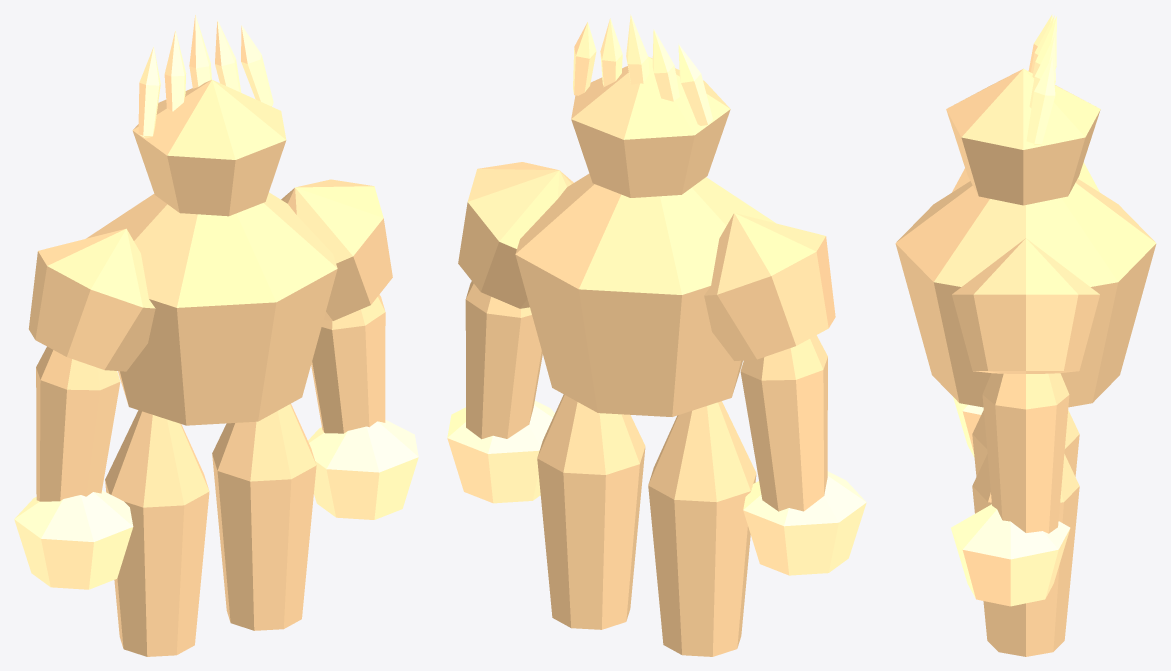
Rendered from deep-fracture-creature-StoneGuardian-earth.glb.
The picture shows the model from 3 angles, left to right: view 1: azimuth 30°, elevation 25°; view 2: azimuth 150°, elevation 25°; view 3: azimuth 270°, elevation 25°; orthographic projection. The views are drawn at different scales.
Visible parts, largest first — view 1: fortress-chest, gate-leg-left, gate-leg-right, crown, shoulder-left, pillar-arm-left, fist-left, shoulder-right, fist-right, pillar-arm-right, crown-spire0, crown-spire4 (+3 smaller); view 2: fortress-chest, gate-leg-left, gate-leg-right, shoulder-left, crown, pillar-arm-left, pillar-arm-right, shoulder-right, fist-left, fist-right, crown-spire0, crown-spire4 (+3 smaller); view 3: fortress-chest, shoulder-right, crown, pillar-arm-right, fist-right, gate-leg-right, crown-spire4, gate-leg-left, fist-left, crown-spire3, crown-spire2, shoulder-left.
Part boxes in pixels (x1,y1,x2,y2): fortress-chest: [86, 192, 337, 425]; gate-leg-left: [105, 410, 209, 656]; gate-leg-right: [212, 404, 316, 630]; crown: [132, 80, 286, 216]; shoulder-left: [28, 228, 155, 371]; pillar-arm-left: [36, 346, 120, 501]; fist-left: [14, 490, 133, 589]; shoulder-right: [281, 179, 392, 320]; fist-right: [308, 419, 418, 519]; pillar-arm-right: [311, 294, 385, 433]; crown-spire0: [138, 46, 160, 138]; crown-spire4: [241, 25, 273, 106]; fortress-chest: [515, 173, 775, 416]; gate-leg-left: [648, 401, 756, 656]; gate-leg-right: [537, 394, 645, 629]; shoulder-left: [704, 213, 835, 360]; crown: [571, 56, 730, 197]; pillar-arm-left: [740, 335, 827, 511]; pillar-arm-right: [465, 281, 542, 439]; shoulder-right: [458, 162, 573, 308]; fist-left: [743, 471, 866, 575]; fist-right: [447, 400, 554, 503]; crown-spire0: [678, 44, 712, 125]; crown-spire4: [573, 22, 596, 95]; fortress-chest: [895, 179, 1156, 407]; shoulder-right: [952, 238, 1099, 373]; crown: [946, 68, 1100, 205]; pillar-arm-right: [982, 373, 1069, 533]; fist-right: [951, 504, 1070, 606]; gate-leg-right: [972, 454, 1079, 656]; crown-spire4: [1026, 57, 1055, 145]; gate-leg-left: [972, 410, 1079, 476]; fist-left: [953, 397, 983, 457]; crown-spire3: [1029, 36, 1055, 108]; crown-spire2: [1032, 16, 1056, 77]; shoulder-left: [952, 162, 1099, 192].
Size of the model in its own units: 3.47 by 5.27 by 2.04.
